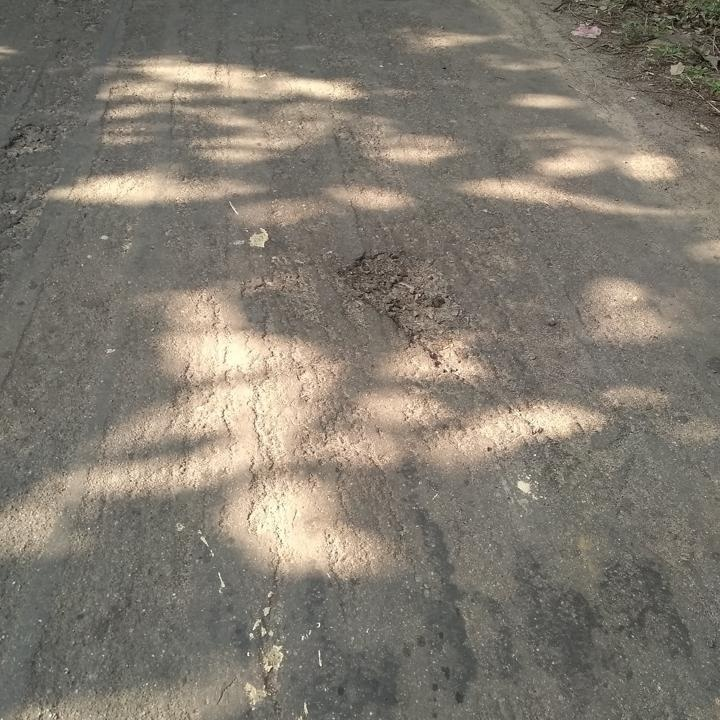pothole: (335, 245, 467, 383), (0, 119, 58, 160)
